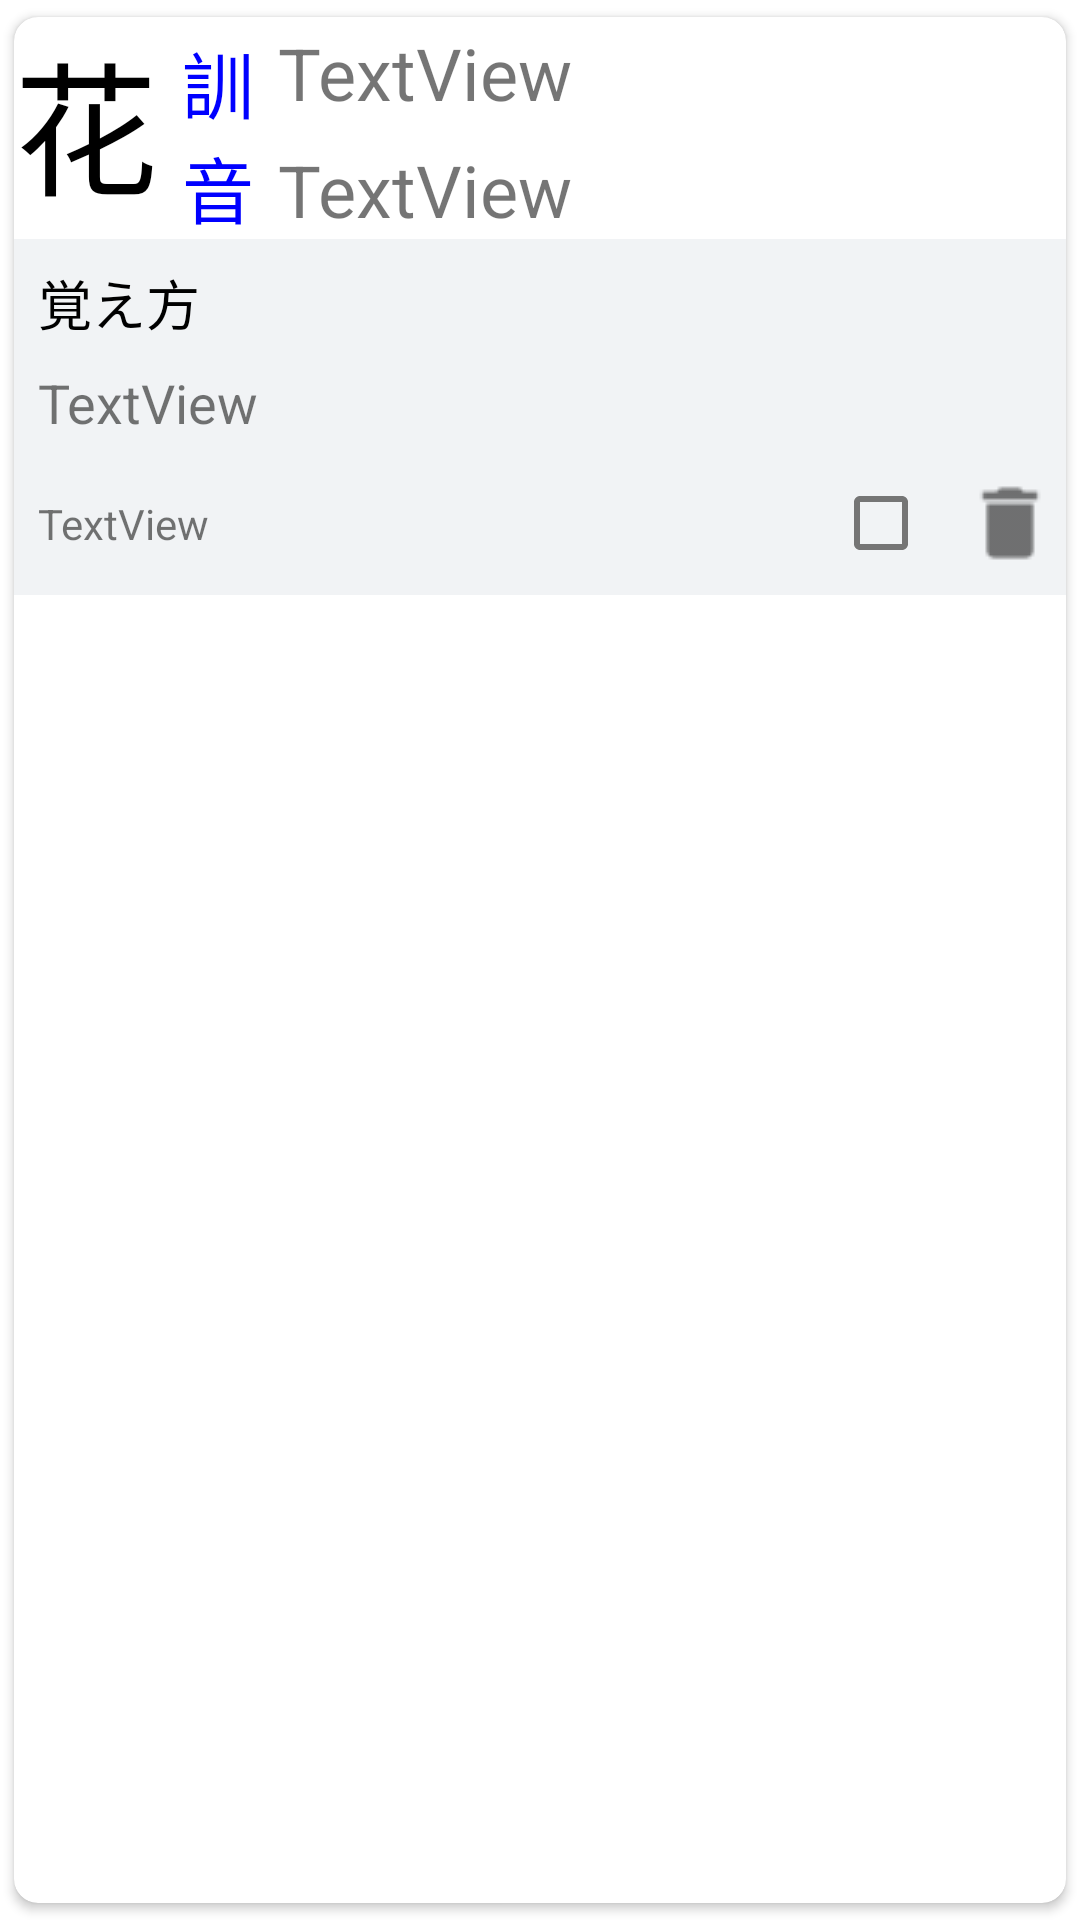

Icons on this 1080px x 1920px Android screen, each with its box as [x1=x1, y1=y1, x2=x2, y2=y2]:
delete: [x1=982, y1=486, x2=1038, y2=560]
